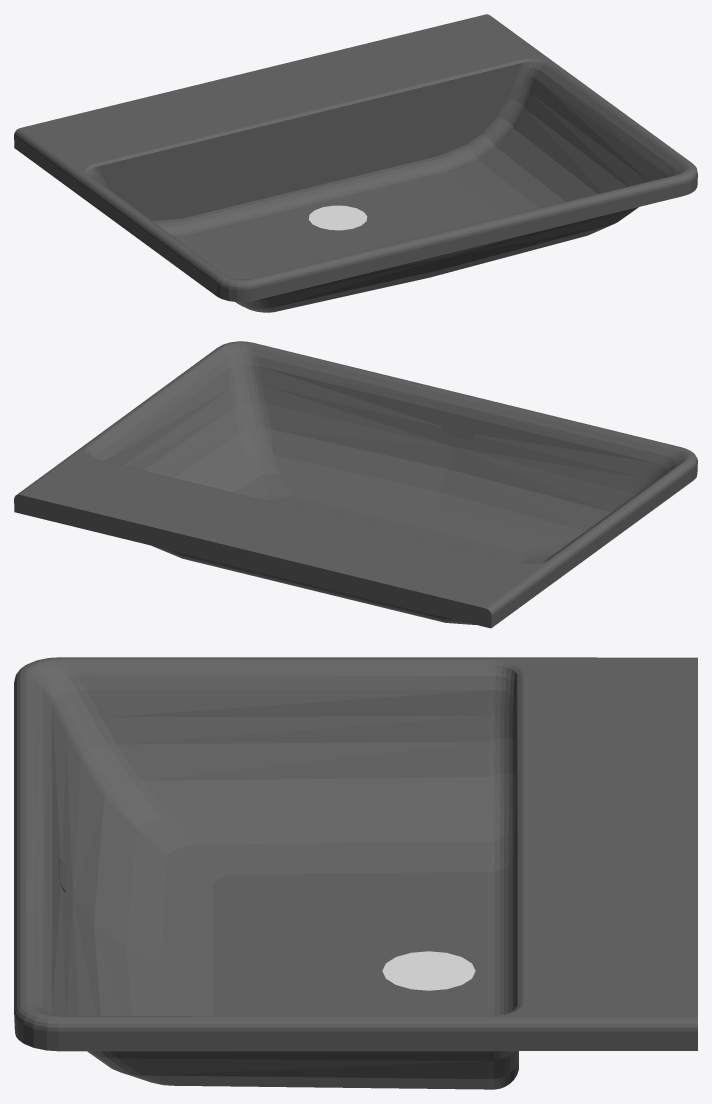
The model's file is AEC_45688.glb.
3 views of the same model, one above another, from view 1: azimuth 30°, elevation 25°; view 2: azimuth 150°, elevation 25°; view 3: azimuth 270°, elevation 25° (orthographic). The views are drawn at different scales.
Parts seen in each view (by area): view 1: 0; view 2: 0; view 3: 0.
Part boxes in pixels (x1,y1,x2,y2): 0: [14, 14, 697, 312]; 0: [14, 341, 697, 628]; 0: [14, 657, 697, 1089].
Bounding box in the file's own units: 0.5604 × 0.096 × 0.44.
1 material, 1 textured.
